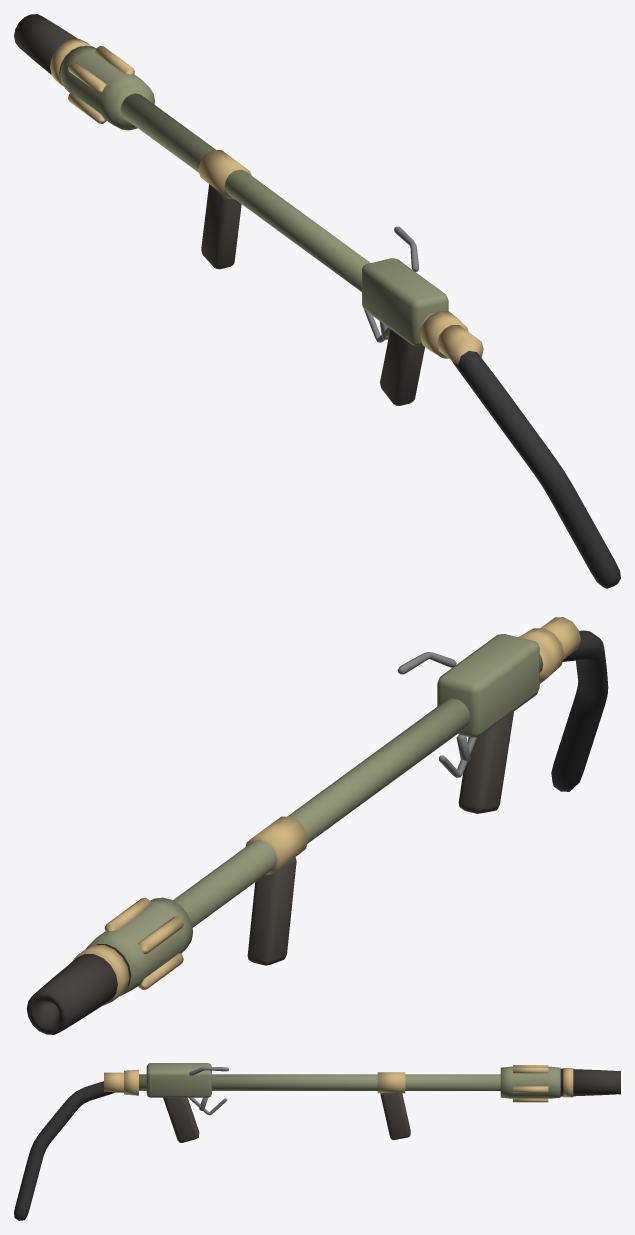
File: flamethrower_wand.glb
The picture shows the model from 3 angles, top to bottom: view 1: azimuth 30°, elevation 25°; view 2: azimuth 150°, elevation 25°; view 3: azimuth 270°, elevation 25°; orthographic projection. The views are drawn at different scales.
Parts seen in each view (by area): view 1: flamethrower_wand; view 2: flamethrower_wand; view 3: flamethrower_wand.
Part boxes in pixels (box(x1,y1,x2,y2)): flamethrower_wand: box(14, 14, 620, 588); flamethrower_wand: box(26, 617, 608, 1034); flamethrower_wand: box(14, 1063, 620, 1220).
Size of the model in its own units: 0.1408 by 0.3129 by 1.21.
